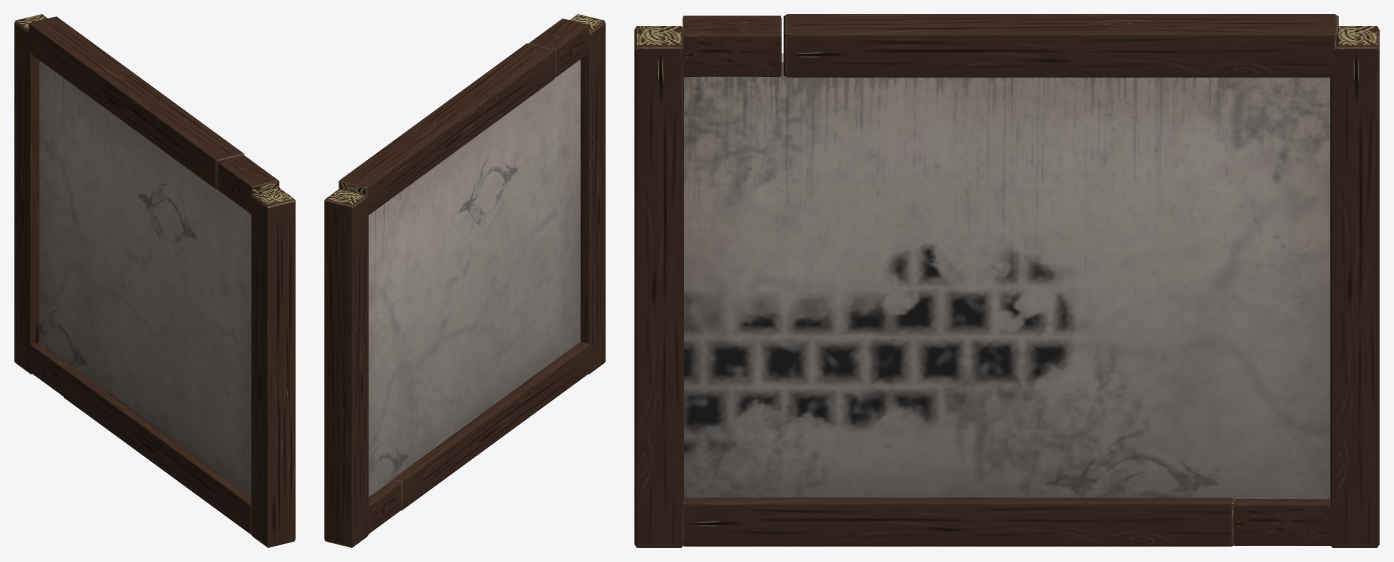
The model's file is Wall_Piece_R.fbx.
The picture shows the model from 3 angles, left to right: view 1: azimuth 30°, elevation 25°; view 2: azimuth 150°, elevation 25°; view 3: azimuth 270°, elevation 25°; orthographic projection. The views are drawn at different scales.
Visible parts, largest first — view 1: Wall_; view 2: Wall_; view 3: Wall_.
Boxes of the visible parts, left/top/right/bottom form: Wall_: left=14, top=14, right=295, bottom=547; Wall_: left=324, top=14, right=605, bottom=547; Wall_: left=634, top=14, right=1379, bottom=547.
Size of the model in its own units: 31.11 by 357 by 468.
